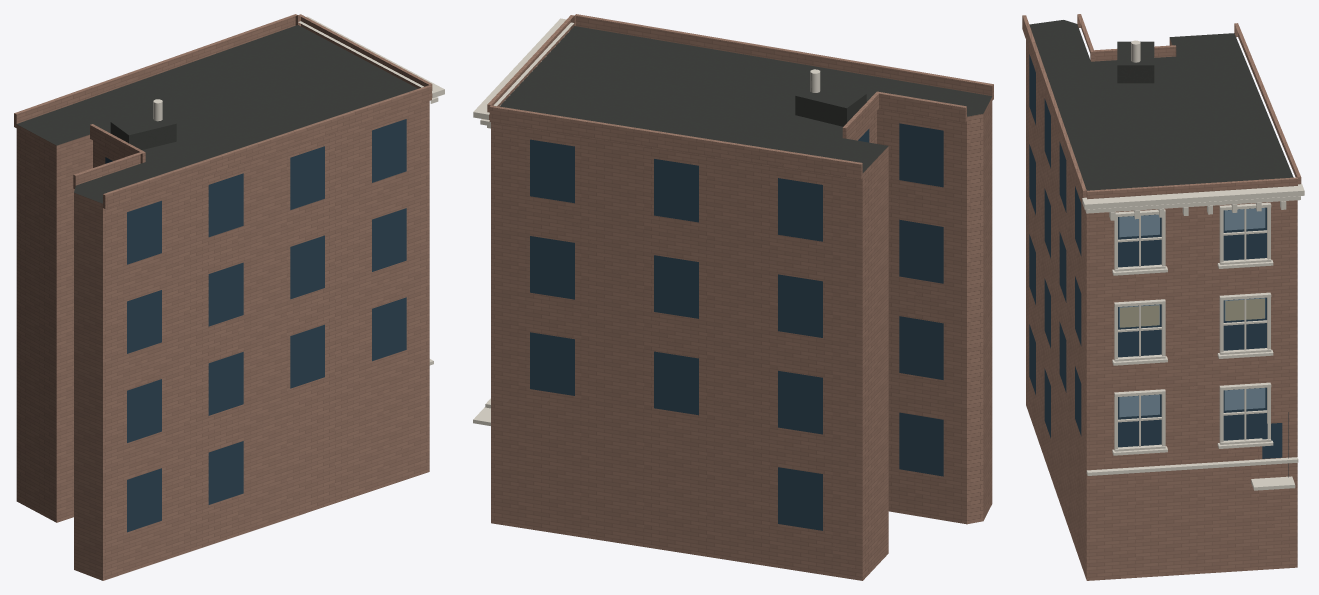
The picture shows the model from 3 angles, left to right: view 1: azimuth 30°, elevation 25°; view 2: azimuth 150°, elevation 25°; view 3: azimuth 270°, elevation 25°; orthographic projection. The views are drawn at different scales.
Visible parts, largest first — view 1: Footprint 0 / surface 2, Inset glazing, Footprint 0 / surface 1, Facade bay volumes, Cornices and window frames, Inferred rooftop service enclosure / surface 5, Inferred rooftop service enclosure / surface 3; view 2: Footprint 0 / surface 2, Inset glazing, Footprint 0 / surface 1, Facade bay volumes, Cornices and window frames, Inferred rooftop service enclosure / surface 6, Inferred rooftop service enclosure / surface 3; view 3: Footprint 0 / surface 2, Footprint 0 / surface 1, Cornices and window frames, Inset glazing, Facade bay volumes, Sky reflection panels, Interior blind variation, Inferred rooftop service enclosure / surface 3, Inferred rooftop service enclosure / surface 1.
Part boxes in pixels (x1,y1,x2,y2): Footprint 0 / surface 2: [16, 101, 429, 580]; Inset glazing: [105, 119, 406, 532]; Footprint 0 / surface 1: [17, 25, 417, 203]; Facade bay volumes: [14, 14, 432, 208]; Cornices and window frames: [298, 16, 444, 365]; Inferred rooftop service enclosure / surface 5: [129, 123, 176, 149]; Inferred rooftop service enclosure / surface 3: [111, 111, 175, 135]; Footprint 0 / surface 2: [491, 97, 992, 580]; Inset glazing: [530, 123, 943, 530]; Footprint 0 / surface 1: [500, 26, 991, 172]; Facade bay volumes: [487, 14, 993, 179]; Cornices and window frames: [473, 18, 573, 425]; Inferred rooftop service enclosure / surface 6: [795, 96, 846, 126]; Inferred rooftop service enclosure / surface 3: [795, 82, 866, 108]; Footprint 0 / surface 2: [1026, 38, 1297, 580]; Footprint 0 / surface 1: [1029, 20, 1293, 190]; Cornices and window frames: [1082, 184, 1304, 490]; Inset glazing: [1029, 54, 1282, 458]; Facade bay volumes: [1022, 14, 1301, 201]; Sky reflection panels: [1119, 208, 1265, 417]; Interior blind variation: [1120, 298, 1264, 327]; Inferred rooftop service enclosure / surface 3: [1117, 41, 1154, 65]; Inferred rooftop service enclosure / surface 1: [1117, 65, 1154, 83].
Size of the model in its own units: 14.42 by 14.94 by 9.16.
